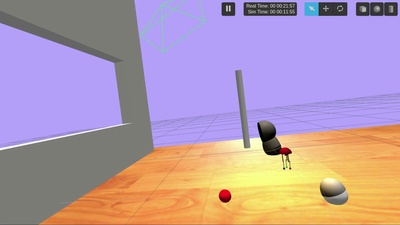mira_robot: (320, 178, 349, 205)
